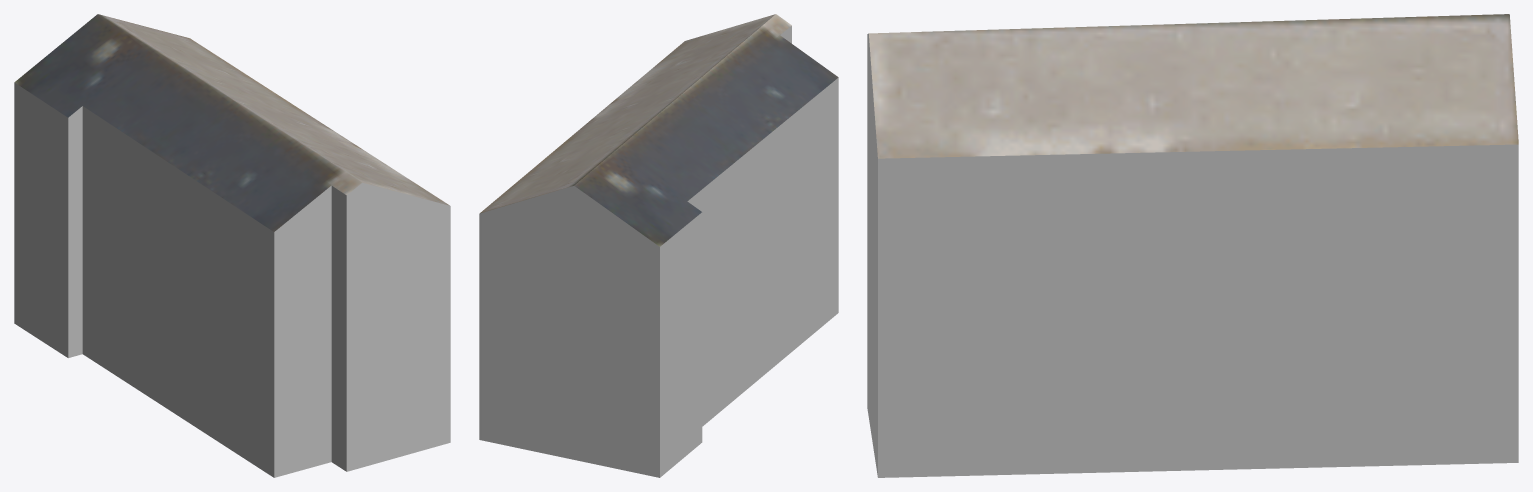
The model's file is DEBW_0010007Tx6V.gltf.
3 views of the same model, side by side, from view 1: azimuth 30°, elevation 25°; view 2: azimuth 150°, elevation 25°; view 3: azimuth 270°, elevation 25° (orthographic). The views are drawn at different scales.
Parts seen in each view (by area): view 1: Z_UP; view 2: Z_UP; view 3: Z_UP.
Boxes of the visible parts, x1,y1,x2,y2 form: Z_UP: [14, 14, 450, 477]; Z_UP: [479, 14, 838, 477]; Z_UP: [867, 14, 1518, 477].
Size of the model in its own units: 13.67 by 18.23 by 27.89.
2 materials, 1 textured.
